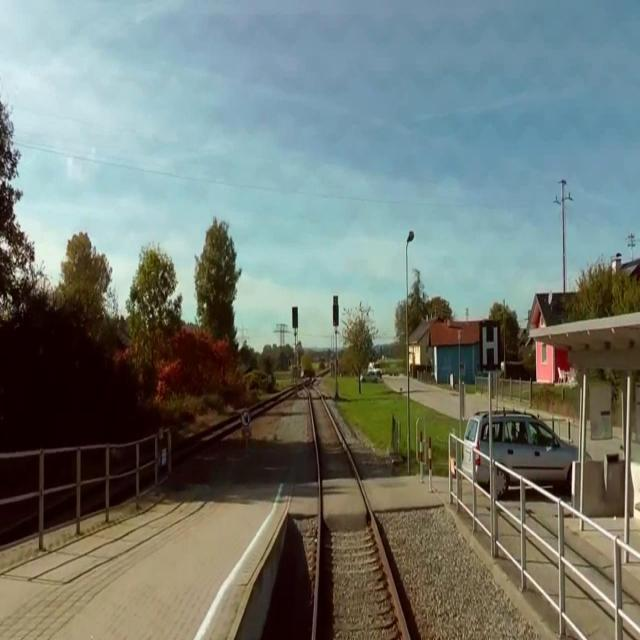car: (460, 410, 594, 502), (368, 364, 384, 381)
